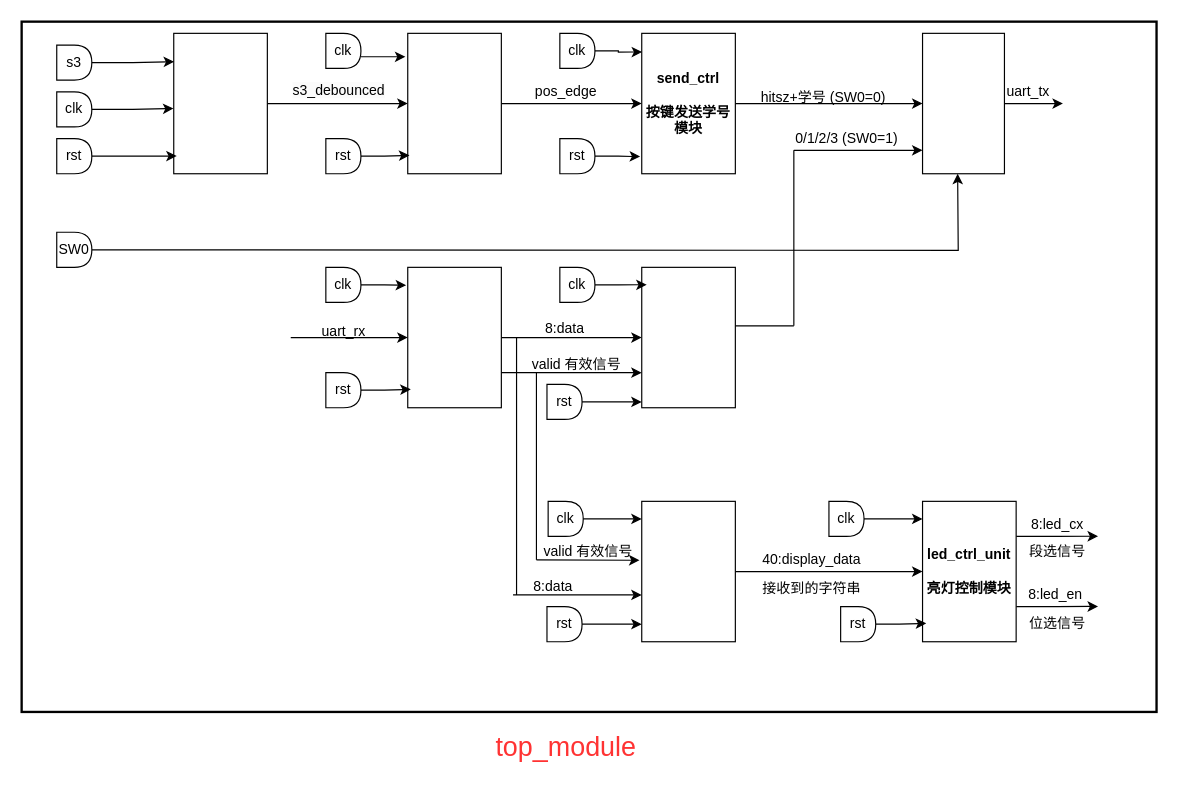
Image size: 1177x790. Some labels were removed from this diagram. Here are the shapes that lost their labels. From the top down, the centre of each, then its label:
the point at 220,103: debounce 消抖模块
the point at 454,103: edge_detct 边沿检测模块
the point at 962,103: mux 根据SW0选择uart_tx信号模块
the point at 454,337: uart_recv 接收字符模块
the point at 688,337: strIng_match 字符串匹配模块
the point at 688,571: display_logic 接收字符转译模块
